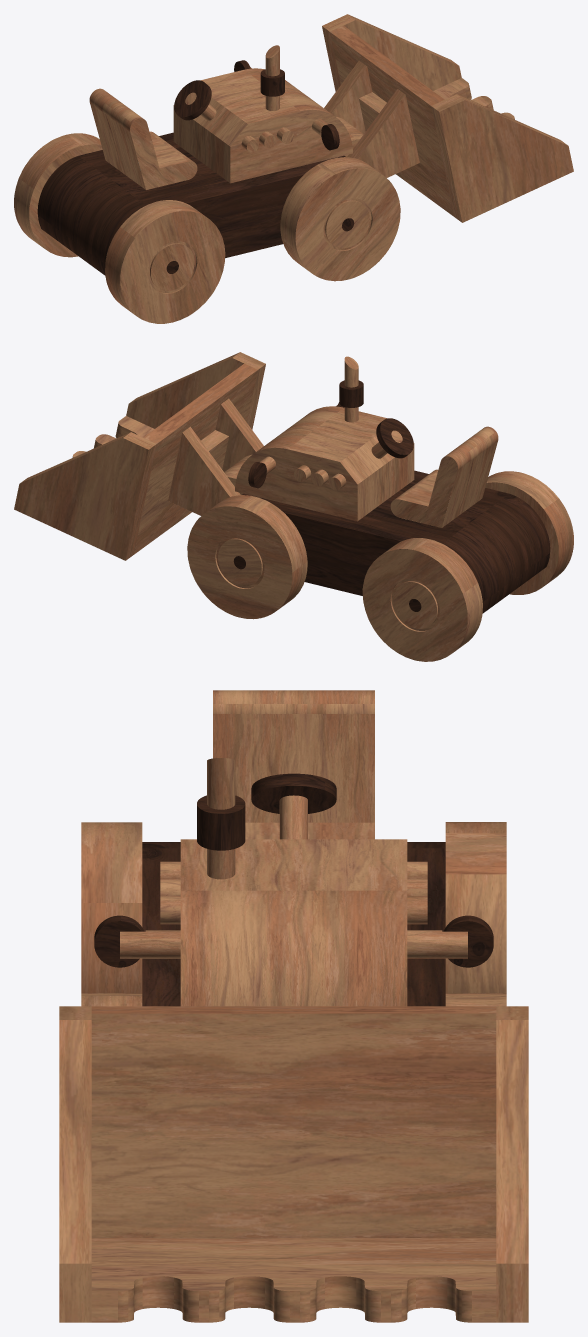
The picture shows the model from 3 angles, top to bottom: view 1: azimuth 30°, elevation 25°; view 2: azimuth 150°, elevation 25°; view 3: azimuth 270°, elevation 25°; orthographic projection. The views are drawn at different scales.
Visible parts, largest first — view 1: Part 1-16\Solid1_0; view 2: Part 1-16\Solid1_0; view 3: Part 1-16\Solid1_0.
Part boxes in pixels (left/top/right/bottom): Part 1-16\Solid1_0: left=14, top=14, right=573, bottom=323; Part 1-16\Solid1_0: left=14, top=352, right=573, bottom=661; Part 1-16\Solid1_0: left=59, top=690, right=528, bottom=1322.
Size of the model in its own units: 0.2557 by 0.1181 by 0.116.
Materials: 14 (13 with a texture image).
